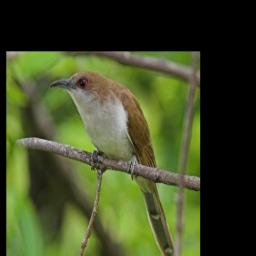Cuckoo: (49, 70, 175, 256)
